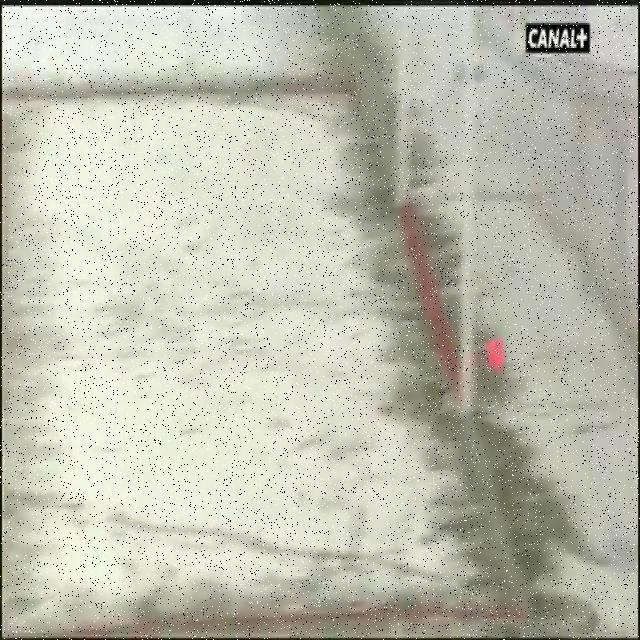ball: (477, 329, 517, 395)
